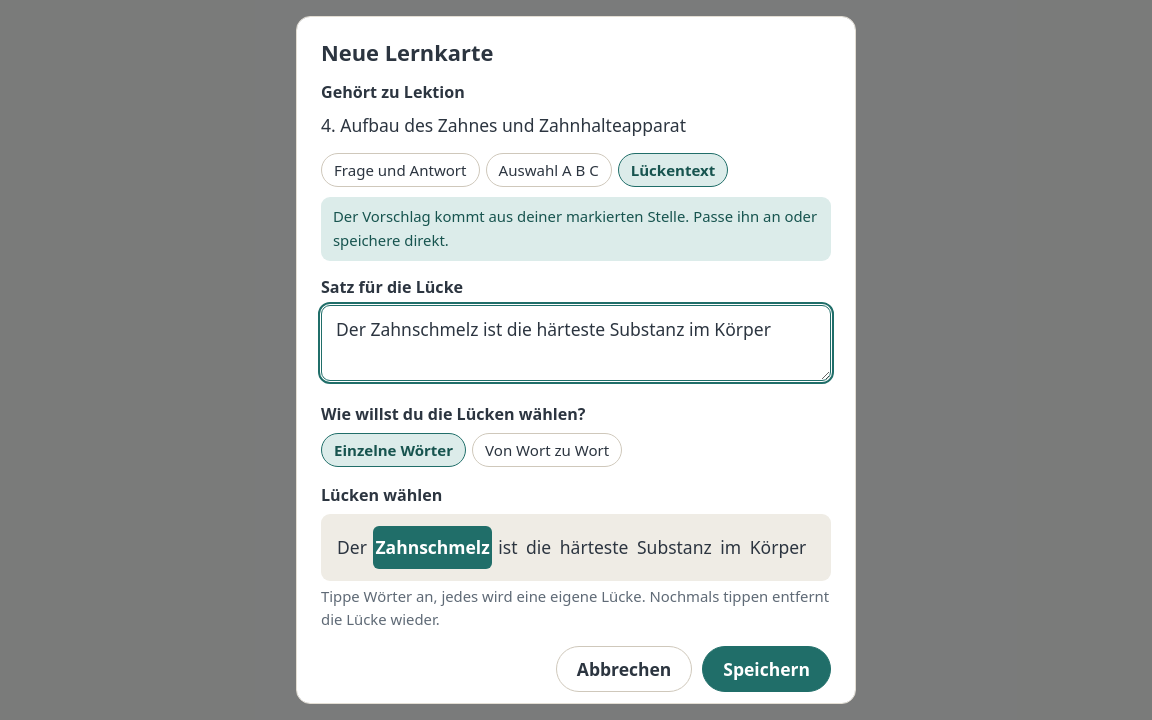
Test case: card editor › suggests a question with the highlight as the answer
Click the button "Frage und Antwort" at (400, 170), box x1=321 y1=153 x2=480 y2=187
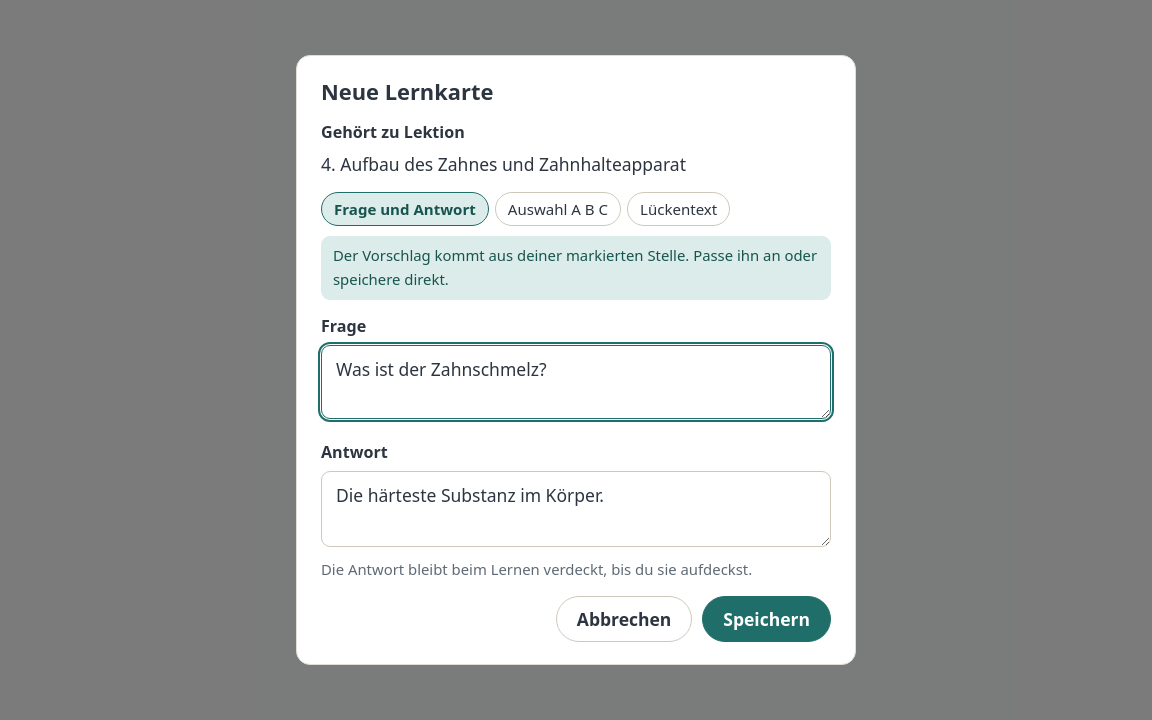
Expected: the text box labelled "Frage" holds "Was ist der Zahnschmelz?", x1=321 y1=345 x2=831 y2=419
Expected: the text box labelled "Antwort" holds "Die härteste Substanz im Körper.", x1=321 y1=471 x2=831 y2=547
